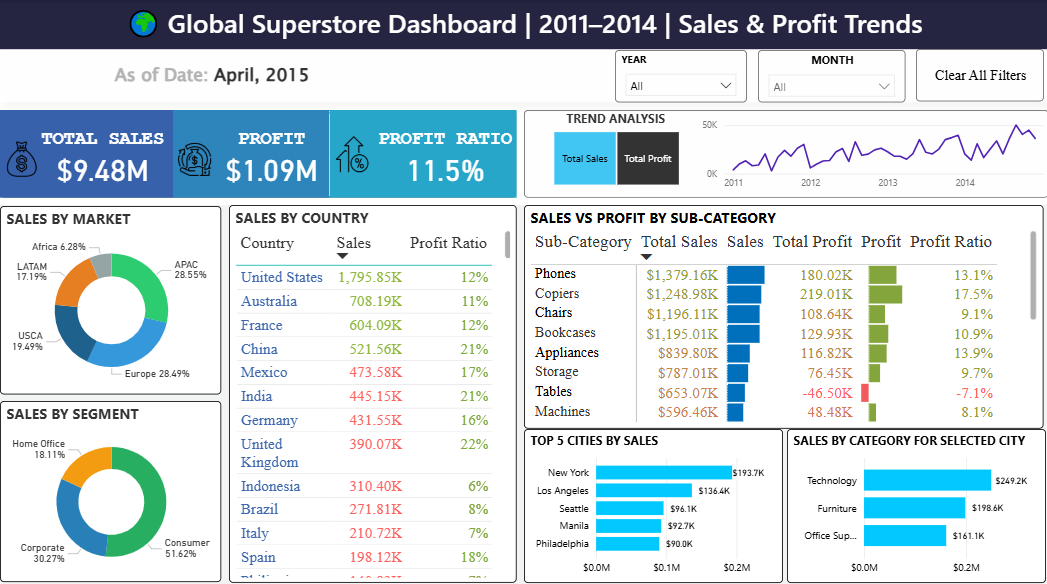

The dashboard page shown, as its layout file describes it:
{"tool":"powerbi","page":{"name":"Overview","canvas":[1280,720],"ordinal":0},"visuals":[{"type":"shape","box":[0,250.4,1280,470.3],"z":0},{"type":"shape","box":[0,61.2,1280,189.2],"z":1000},{"type":"shape","box":[0,134.2,630.2,107.1],"z":2000},{"type":"shape","box":[0,61.5,1280,64],"z":3000},{"type":"shape","box":[0,0,1280,59.8],"z":4000},{"type":"shape","box":[0,134.2,211.7,107.1],"z":5000},{"type":"textbox","box":[0,0,1280,60],"z":6000},{"type":"actionButton","box":[1117.5,60.3,156.3,64],"z":7000},{"type":"slicer","title":"YEAR","fields":{"Values":["Orders.Order Date.Variation.Date Hierarchy.Year"]},"box":[750.8,61.5,161.2,64],"z":8000},{"type":"slicer","title":"MONTH","fields":{"Values":["Orders.Order Date.Variation.Date Hierarchy.Month"]},"box":[925.5,61.5,179.7,64],"z":9000},{"type":"textbox","box":[13.5,71.4,491.1,41.8],"z":10000},{"type":"card","title":"TOTAL SALES","fields":{"Values":["Sum(Orders.Sales)"]},"box":[39.4,156.3,172.3,76.3],"z":11000},{"type":"shape","box":[211.7,134.2,190.8,107.1],"z":12000},{"type":"shape","box":[402.5,134.2,227.7,107.1],"z":13000},{"type":"image","box":[0,125.2,52.9,136.3],"z":14000},{"type":"image","box":[211.5,126.6,52.9,135],"z":15000},{"type":"card","title":"PROFIT","fields":{"Values":["Sum(Orders.Profit)"]},"box":[259.7,156.3,142.8,76.3],"z":16000},{"type":"card","title":"PROFIT RATIO","fields":{"Values":["Orders.Profit Ratio"]},"box":[456.6,156.3,173.5,76.3],"z":17000},{"type":"image","box":[402.5,134.2,54.2,107.1],"z":18000},{"type":"shape","box":[640,134.2,640,107.1],"z":19000},{"type":"lineChart","fields":{"Y":["Orders.Total Profit"],"Category":["Orders.Order Date.Variation.Date Hierarchy.Year","Orders.Order Date.Variation.Date Hierarchy.Month"]},"box":[851.5,126.6,428.5,114.1],"z":20000},{"type":"slicer","title":"TREND ANALYSIS","fields":{"Values":["Trend Selector.Trend Selector"]},"box":[649.8,134.2,201.8,98.5],"z":21000},{"type":"donutChart","title":"SALES BY SEGMENT","fields":{"Y":["Sum(Orders.Sales)"],"Category":["Orders.Segment"]},"box":[0,489.7,269.9,221.2],"z":22000},{"type":"donutChart","title":"SALES BY MARKET","fields":{"Y":["Sum(Orders.Sales)"],"Category":["Orders.Market"]},"box":[0,251.8,269.9,229.6],"z":23000},{"type":"tableEx","title":"SALES BY COUNTRY","fields":{"Values":["Orders.Country","Sum(Orders.Sales)","Orders.Profit Ratio"]},"box":[279.7,250.4,350.6,460.5],"z":24000},{"type":"pivotTable","title":"SALES VS PROFIT BY SUB-CATEGORY","fields":{"Rows":["Orders.Sub-Category"],"Values":["Orders.Total Sales","Sum(Orders.Sales)","Orders.Total Profit","Sum(Orders.Profit)","Orders.Profit Ratio"]},"box":[640,249.8,633.8,273.2],"z":25000},{"type":"barChart","title":"TOP 5 CITIES BY SALES","fields":{"Category":["Orders.City"],"Y":["Sum(Orders.Sales)"]},"box":[640,523.1,315.8,187.8],"z":26000},{"type":"barChart","title":"SALES BY CATEGORY FOR SELECTED CITY","fields":{"Y":["Sum(Orders.Sales)"],"Category":["Orders.Category"]},"box":[960,523.1,315.8,187.8],"z":27000}]}

Visuals, with their boxes in screenshot pixels (x1, y1, x2, y2), scaled from the page's 1280x720 canvas onto the 1047x584 screenshot:
shape: region(0, 203, 1046, 583)
shape: region(0, 50, 1046, 203)
shape: region(0, 109, 515, 196)
shape: region(0, 50, 1046, 102)
shape: region(0, 0, 1046, 49)
shape: region(0, 109, 173, 196)
textbox: region(0, 0, 1046, 49)
actionButton: region(914, 49, 1042, 101)
"YEAR" slicer: region(614, 50, 746, 102)
"MONTH" slicer: region(757, 50, 904, 102)
textbox: region(11, 58, 413, 92)
"TOTAL SALES" card: region(32, 127, 173, 189)
shape: region(173, 109, 329, 196)
shape: region(329, 109, 515, 196)
image: region(0, 102, 43, 212)
image: region(173, 103, 216, 212)
"PROFIT" card: region(212, 127, 329, 189)
"PROFIT RATIO" card: region(373, 127, 515, 189)
image: region(329, 109, 374, 196)
shape: region(524, 109, 1046, 196)
lineChart - Orders.Total Profit x Orders.Order Date.Variation.Date Hierarchy.Year: region(697, 103, 1046, 195)
"TREND ANALYSIS" slicer: region(532, 109, 697, 189)
"SALES BY SEGMENT" donutChart: region(0, 397, 221, 577)
"SALES BY MARKET" donutChart: region(0, 204, 221, 390)
"SALES BY COUNTRY" tableEx: region(229, 203, 516, 577)
"SALES VS PROFIT BY SUB-CATEGORY" pivotTable: region(524, 203, 1042, 424)
"TOP 5 CITIES BY SALES" barChart: region(524, 424, 782, 577)
"SALES BY CATEGORY FOR SELECTED CITY" barChart: region(785, 424, 1044, 577)
